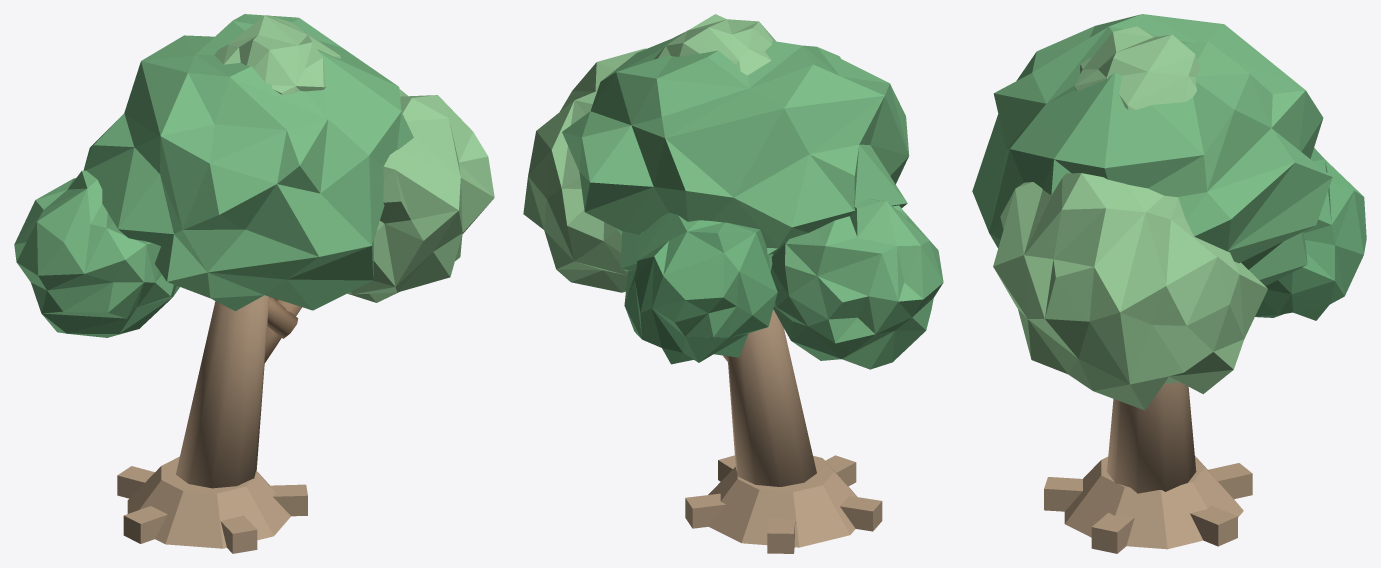
Rendered from Tree_A_02_LOD1.glb.
3 renders of one model, left to right at view 1: azimuth 30°, elevation 25°; view 2: azimuth 150°, elevation 25°; view 3: azimuth 270°, elevation 25°, orthographic. The views are drawn at different scales.
Parts seen in each view (by area): view 1: BW_TreeA_V02_Canopy_01_LOD1, BW_TreeA_V02_Canopy_02_LOD1, BW_TreeA_V02_Canopy_03_LOD1, BW_TreeA_V02_Trunk_LOD1, BW_TreeA_V02_Roots_LOD1, BW_TreeA_V02_Canopy_04_LOD1, BW_TreeA_V02_Branches_LOD1; view 2: BW_TreeA_V02_Canopy_01_LOD1, BW_TreeA_V02_Canopy_03_LOD1, BW_TreeA_V02_Canopy_05_LOD1, BW_TreeA_V02_Roots_LOD1, BW_TreeA_V02_Canopy_02_LOD1, BW_TreeA_V02_Trunk_LOD1, BW_TreeA_V02_Canopy_04_LOD1; view 3: BW_TreeA_V02_Canopy_01_LOD1, BW_TreeA_V02_Canopy_02_LOD1, BW_TreeA_V02_Roots_LOD1, BW_TreeA_V02_Canopy_05_LOD1, BW_TreeA_V02_Trunk_LOD1, BW_TreeA_V02_Canopy_04_LOD1.
Part boxes in pixels (x1,y1,x2,y2): BW_TreeA_V02_Canopy_01_LOD1: (83, 14, 413, 311); BW_TreeA_V02_Canopy_02_LOD1: (347, 89, 494, 302); BW_TreeA_V02_Canopy_03_LOD1: (14, 170, 179, 337); BW_TreeA_V02_Trunk_LOD1: (176, 295, 269, 488); BW_TreeA_V02_Roots_LOD1: (117, 456, 307, 553); BW_TreeA_V02_Canopy_04_LOD1: (214, 15, 341, 95); BW_TreeA_V02_Branches_LOD1: (264, 297, 301, 363); BW_TreeA_V02_Canopy_01_LOD1: (562, 38, 909, 271); BW_TreeA_V02_Canopy_03_LOD1: (771, 199, 943, 369); BW_TreeA_V02_Canopy_05_LOD1: (624, 212, 777, 364); BW_TreeA_V02_Roots_LOD1: (685, 455, 882, 553); BW_TreeA_V02_Canopy_02_LOD1: (523, 48, 646, 292); BW_TreeA_V02_Trunk_LOD1: (727, 309, 816, 486); BW_TreeA_V02_Canopy_04_LOD1: (654, 14, 776, 75); BW_TreeA_V02_Canopy_01_LOD1: (972, 14, 1332, 285); BW_TreeA_V02_Canopy_02_LOD1: (993, 173, 1267, 410); BW_TreeA_V02_Roots_LOD1: (1044, 456, 1252, 553); BW_TreeA_V02_Canopy_05_LOD1: (1255, 148, 1366, 320); BW_TreeA_V02_Trunk_LOD1: (1107, 382, 1196, 493); BW_TreeA_V02_Canopy_04_LOD1: (1074, 26, 1200, 109).
Size of the model in its own units: 4.34 by 4.73 by 3.31.
